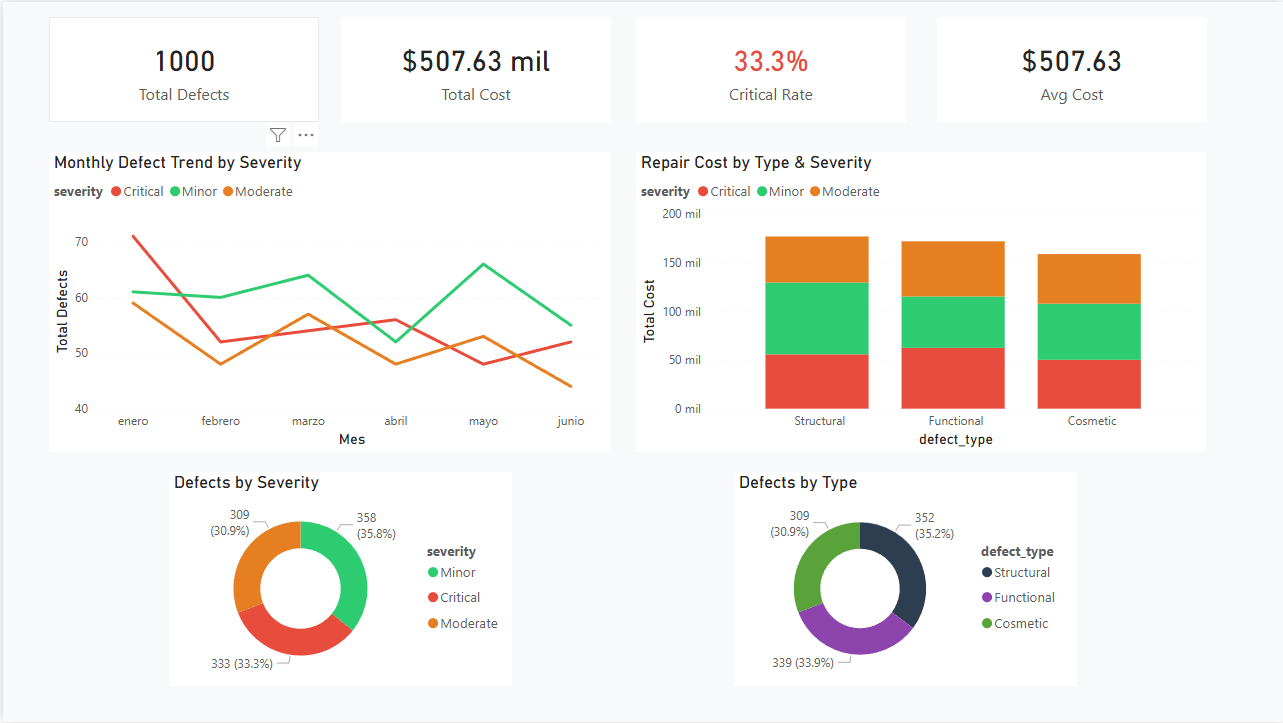

The dashboard page shown, as its layout file describes it:
{"tool":"powerbi","page":{"name":"Executive Overview","canvas":[1280,720],"ordinal":0},"visuals":[{"type":"card","fields":{"Values":["manufacturing_defects_clean.Total Defects"]},"box":[46,15,270,105],"z":0},{"type":"card","fields":{"Values":["manufacturing_defects_clean.Total Cost"]},"box":[338,15,270,105],"z":1000},{"type":"card","fields":{"Values":["manufacturing_defects_clean.Critical Rate"]},"box":[633,15,270,105],"z":2000},{"type":"card","fields":{"Values":["manufacturing_defects_clean.Avg Cost"]},"box":[934,15,270,105],"z":3000},{"type":"lineChart","title":"Monthly Defect Trend by Severity","fields":{"Category":["Fechas.Date.Variación.Jerarquía de fechas.Mes"],"Y":["manufacturing_defects_clean.Total Defects"],"Series":["manufacturing_defects_clean.severity"]},"box":[46,150,562,300],"z":4000},{"type":"donutChart","title":"Defects by Severity","fields":{"Category":["manufacturing_defects_clean.severity"],"Y":["manufacturing_defects_clean.Total Defects"]},"box":[166,470,343,214],"z":5000},{"type":"donutChart","title":"Defects by Type","fields":{"Category":["manufacturing_defects_clean.defect_type"],"Y":["manufacturing_defects_clean.Total Defects"]},"box":[731,470,343,214],"z":6000},{"type":"columnChart","title":"Repair Cost by Type & Severity","fields":{"Category":["manufacturing_defects_clean.defect_type"],"Series":["manufacturing_defects_clean.severity"],"Y":["manufacturing_defects_clean.Total Cost"]},"box":[633,150,570,300],"z":7000}]}

Visuals, with their boxes in screenshot pixels (x1, y1, x2, y2), scaled from the page's 1280x720 canvas onto the 1283x723 screenshot:
card - manufacturing_defects_clean.Total Defects: [x1=46, y1=15, x2=317, y2=120]
card - manufacturing_defects_clean.Total Cost: [x1=339, y1=15, x2=609, y2=120]
card - manufacturing_defects_clean.Critical Rate: [x1=634, y1=15, x2=905, y2=120]
card - manufacturing_defects_clean.Avg Cost: [x1=936, y1=15, x2=1207, y2=120]
"Monthly Defect Trend by Severity" lineChart: [x1=46, y1=151, x2=609, y2=452]
"Defects by Severity" donutChart: [x1=166, y1=472, x2=510, y2=687]
"Defects by Type" donutChart: [x1=733, y1=472, x2=1077, y2=687]
"Repair Cost by Type & Severity" columnChart: [x1=634, y1=151, x2=1206, y2=452]
